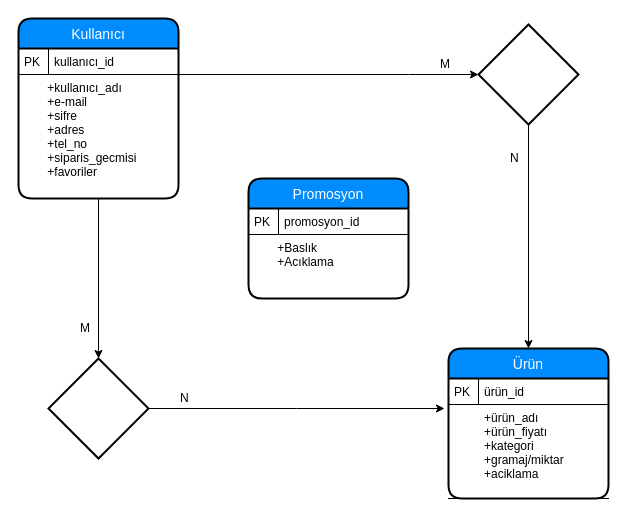
The diagram is 626 pixels wide and 518 high, and some of its shapes have lost their labels. Here are the shapes that lost their labels. From the top down, the box of each, then its label:
(477, 23, 579, 125): Sipariş
(47, 357, 149, 459): Sepete Ekle
